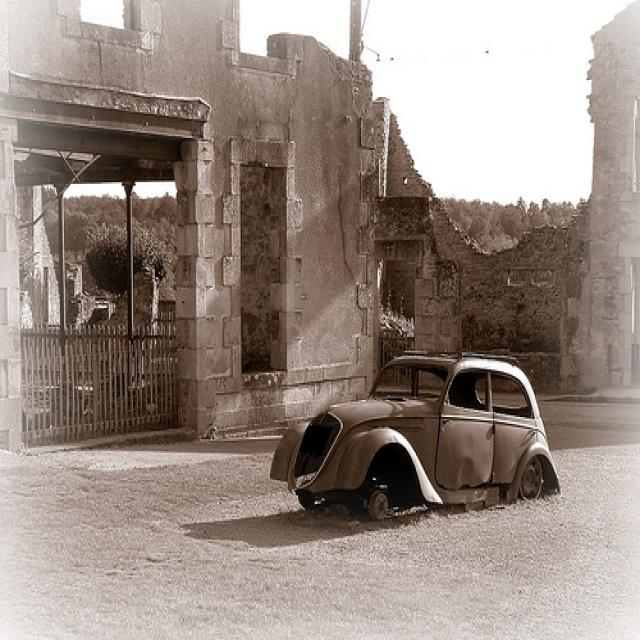Car: (265, 348, 557, 526)
